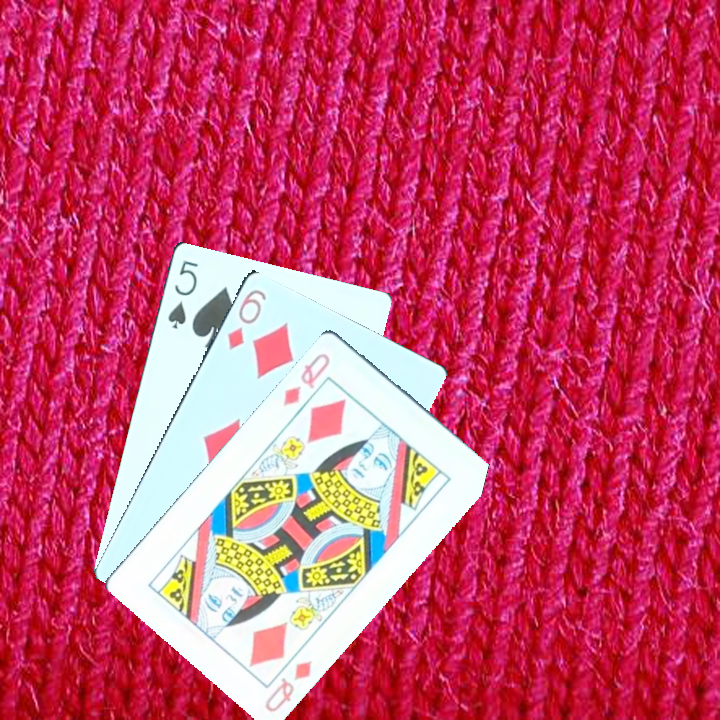5s: (163, 256, 201, 332)
6d: (223, 285, 269, 352)
Qd: (279, 348, 337, 418), (260, 655, 315, 715)
